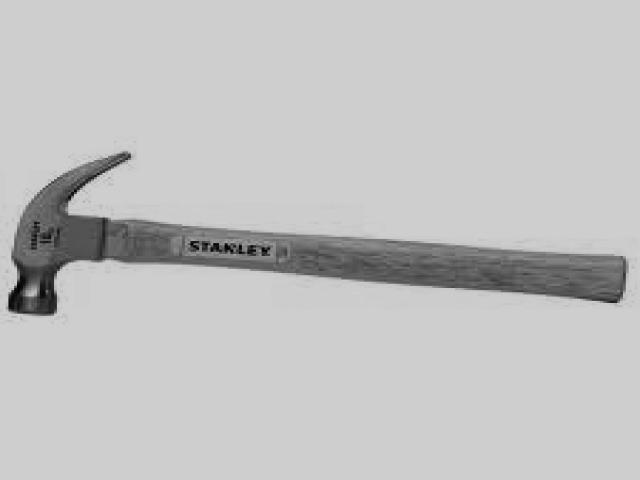Hammer: (9, 152, 625, 313)
